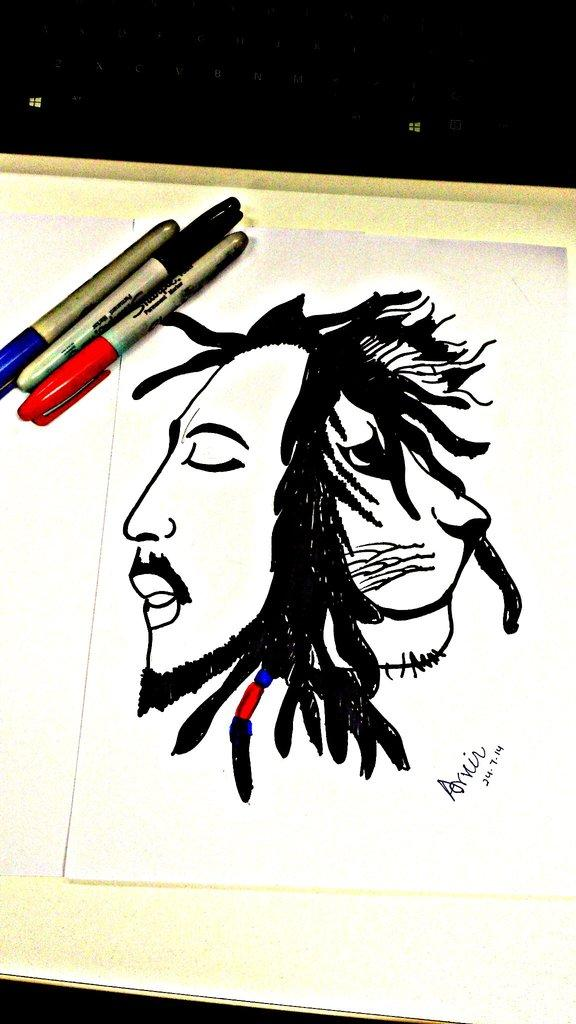pen: (0, 205, 249, 417)
